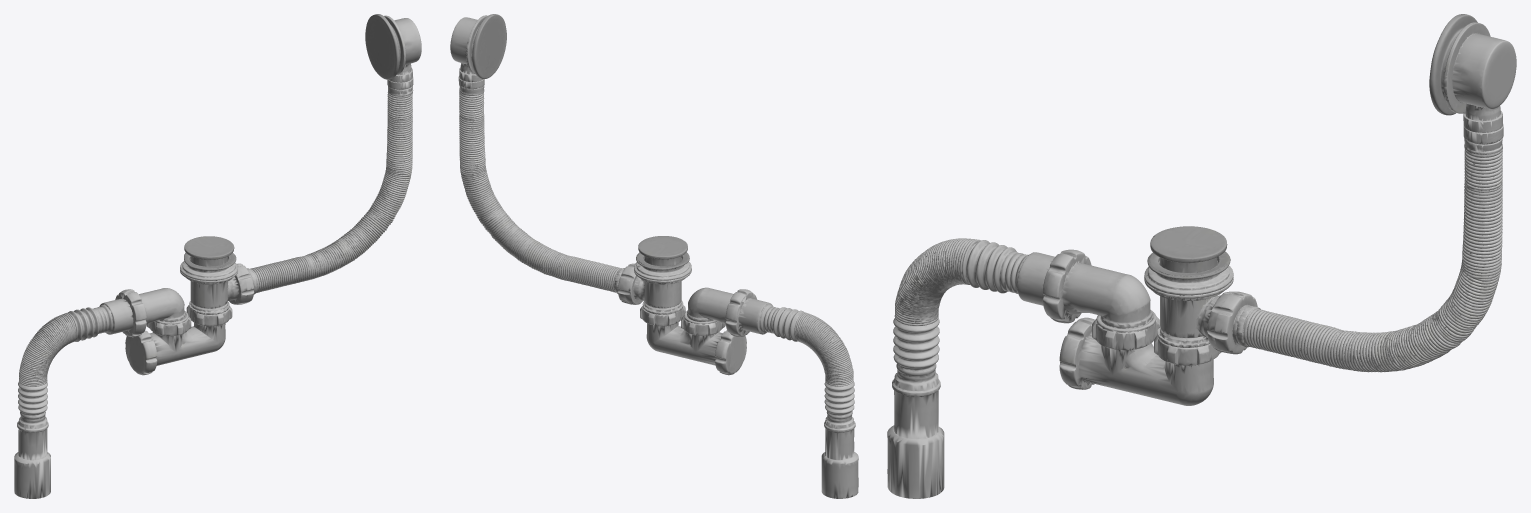
File: siphon.glb
3 views of the same model, side by side, from view 1: azimuth 30°, elevation 25°; view 2: azimuth 150°, elevation 25°; view 3: azimuth 330°, elevation 25° (orthographic). The views are drawn at different scales.
Visible parts, largest first — view 1: tripo_node_54d2858d-a709-4637-a8c9-882fc50a21dc; view 2: tripo_node_54d2858d-a709-4637-a8c9-882fc50a21dc; view 3: tripo_node_54d2858d-a709-4637-a8c9-882fc50a21dc.
Boxes of the visible parts, box(x1,y1,x2,y2) form: tripo_node_54d2858d-a709-4637-a8c9-882fc50a21dc: box(14, 14, 421, 498); tripo_node_54d2858d-a709-4637-a8c9-882fc50a21dc: box(450, 14, 858, 498); tripo_node_54d2858d-a709-4637-a8c9-882fc50a21dc: box(887, 14, 1516, 498).
Size of the model in its own units: 0.9795 by 0.9222 by 0.1388.
Materials: 1 (1 with a texture image).
